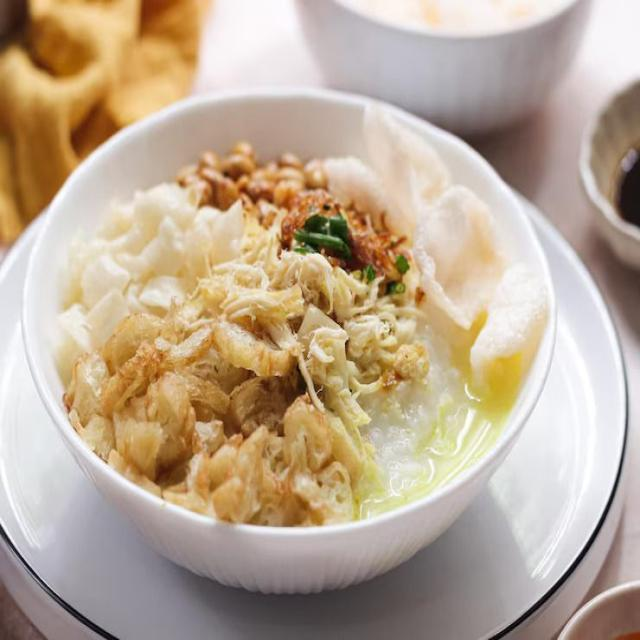bubur ayam: (59, 151, 548, 524)
mangkuk: (15, 85, 559, 598), (290, 0, 592, 136), (577, 78, 640, 273), (556, 580, 640, 640)
